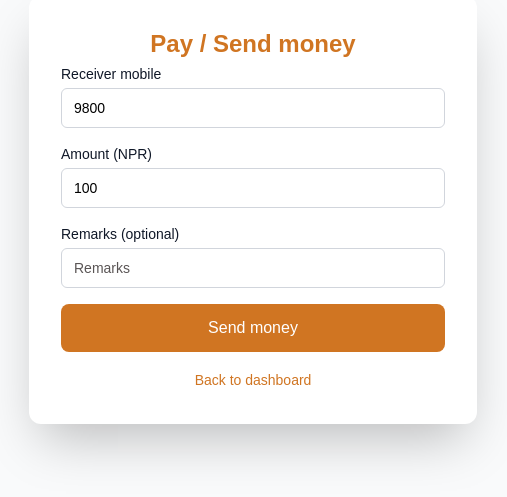
Test: PayPage › shows mobile length validation
Click the button "Send money": (253, 328) [61,304,445,352]
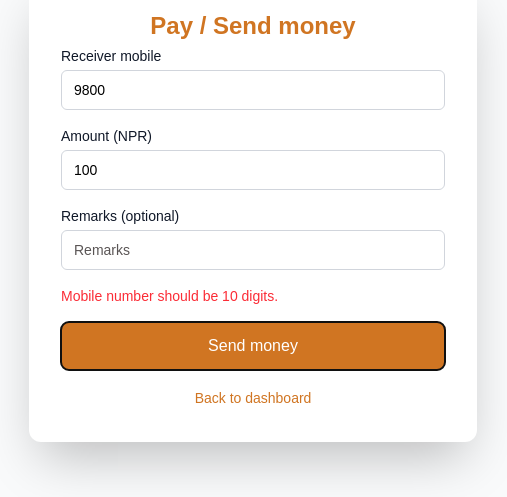
expect the text "Mobile number should be 10 digits." is shown: met, box [61,288,278,304]
